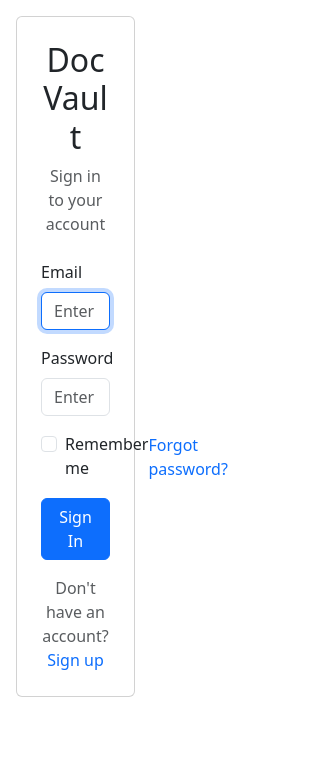
Test case: LoginPage Integration Tests › Form Validation › should show validation error for empty password
Click the password field labelled "Password" at (75, 397), box [41,378,110,416]
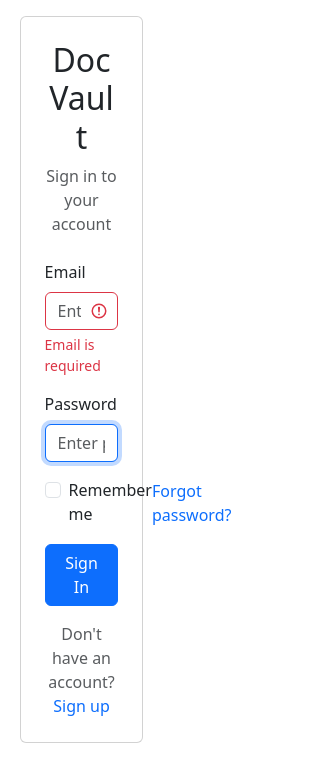
Press Tab
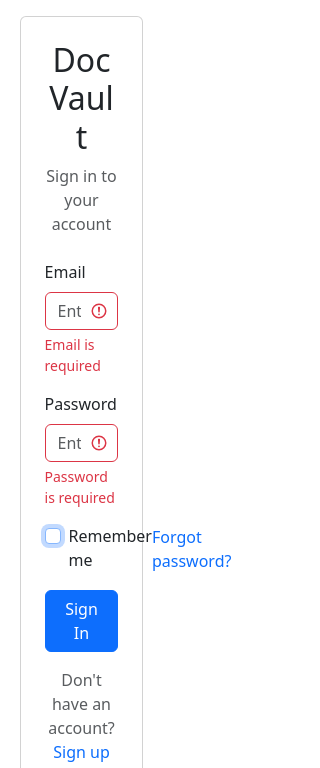
Result: the text "Password is required" is shown at [44,466,118,508]
